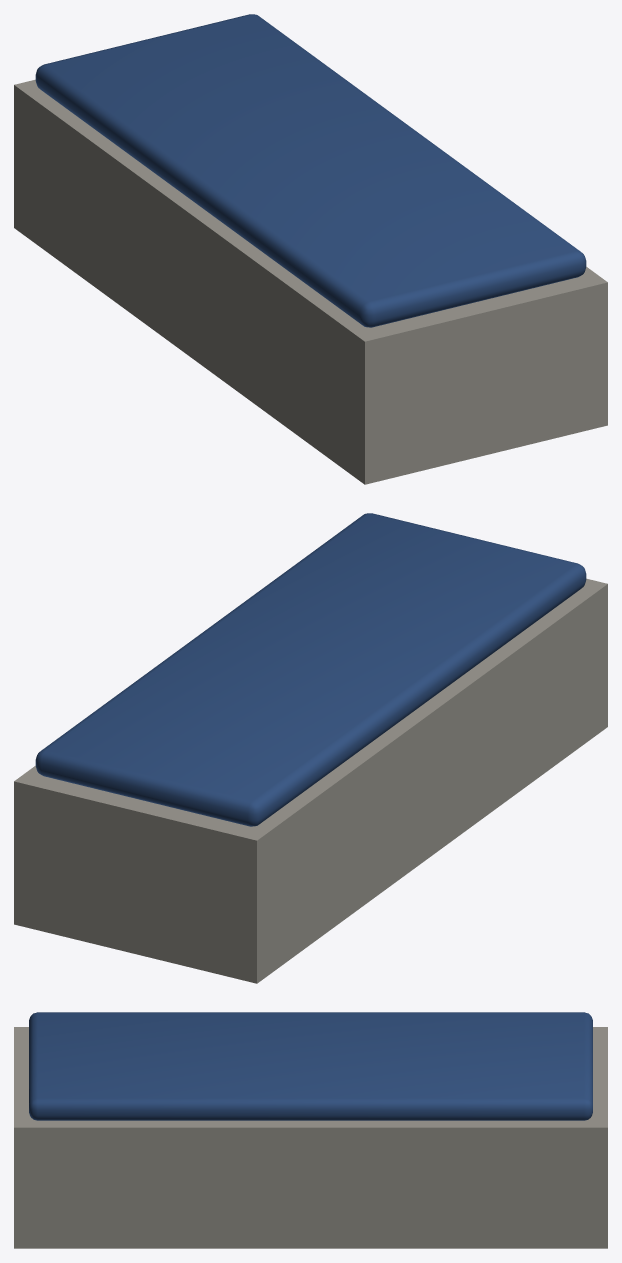
File: fixture.cell_bench.glb
3 views of the same model, one above another, from view 1: azimuth 30°, elevation 25°; view 2: azimuth 150°, elevation 25°; view 3: azimuth 270°, elevation 25° (orthographic). The views are drawn at different scales.
Visible parts, largest first — view 1: main__concrete, main__fabric_blue; view 2: main__concrete, main__fabric_blue; view 3: main__concrete, main__fabric_blue.
Part boxes in pixels (<box>): main__concrete: <box>14,79,607,484</box>; main__fabric_blue: <box>35,14,586,327</box>; main__concrete: <box>14,578,607,983</box>; main__fabric_blue: <box>35,513,586,826</box>; main__concrete: <box>14,1027,607,1248</box>; main__fabric_blue: <box>29,1012,592,1120</box>.
Size of the model in its own units: 0.8 by 0.53 by 2.
